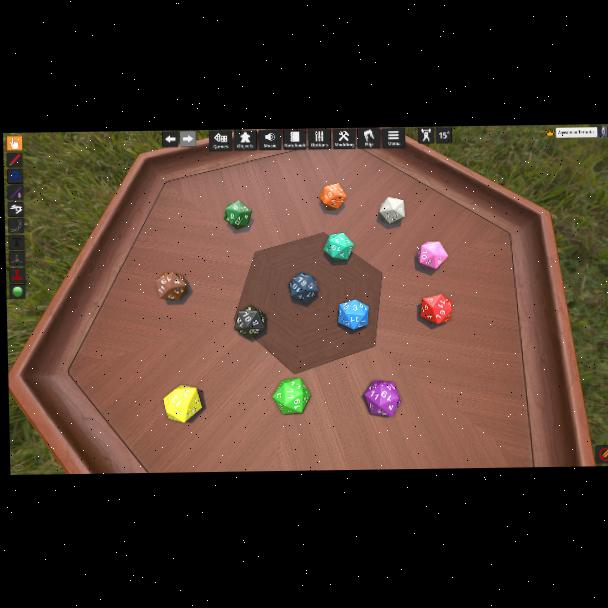d20: (164, 384, 202, 423), (272, 378, 311, 414), (366, 380, 402, 417), (233, 305, 267, 338), (338, 299, 368, 331), (420, 294, 450, 325), (157, 272, 188, 301), (288, 273, 317, 304), (416, 240, 446, 269), (323, 233, 352, 261), (224, 200, 252, 229), (319, 183, 346, 211), (378, 197, 404, 223)
